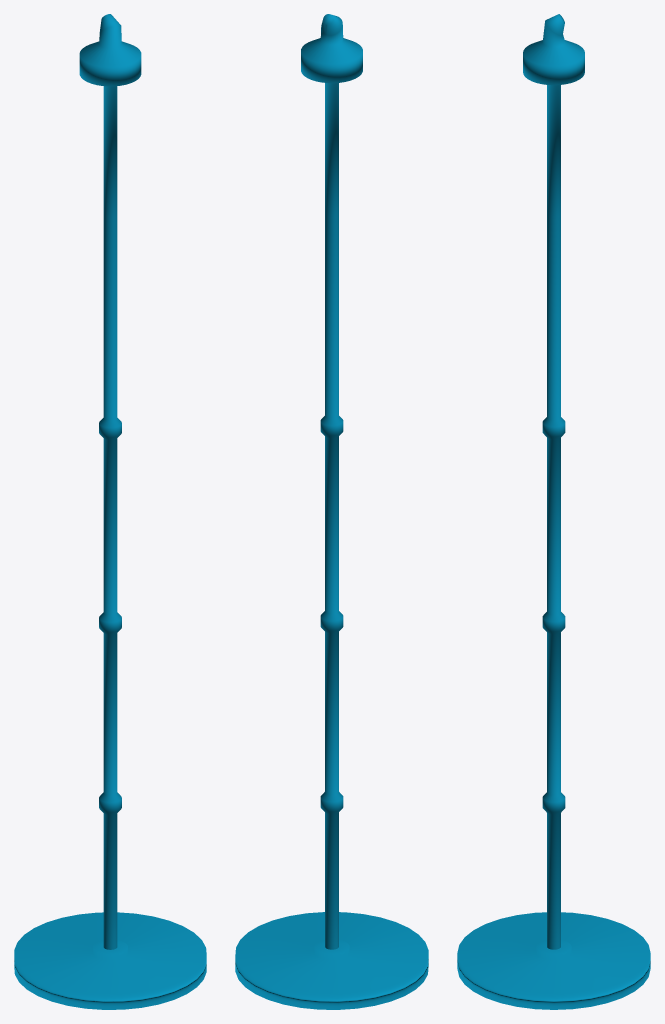
3 renders of one model, left to right at view 1: azimuth 30°, elevation 25°; view 2: azimuth 150°, elevation 25°; view 3: azimuth 270°, elevation 25°, orthographic.
Parts seen in each view (by area): view 1: Cylinder014,_colorize_, Cylinder015,_colorize_; view 2: Cylinder014,_colorize_, Cylinder015,_colorize_; view 3: Cylinder014,_colorize_, Cylinder015,_colorize_.
Part boxes in pixels (x1=…): Cylinder014,_colorize_: x1=79, y1=14, x2=141, y2=949; Cylinder015,_colorize_: x1=14, y1=912, x2=206, y2=1009; Cylinder014,_colorize_: x1=301, y1=14, x2=362, y2=949; Cylinder015,_colorize_: x1=235, y1=912, x2=428, y2=1009; Cylinder014,_colorize_: x1=523, y1=14, x2=584, y2=949; Cylinder015,_colorize_: x1=457, y1=912, x2=650, y2=1009.
Size of the model in its own units: 0.2972 by 1.62 by 0.2972.
